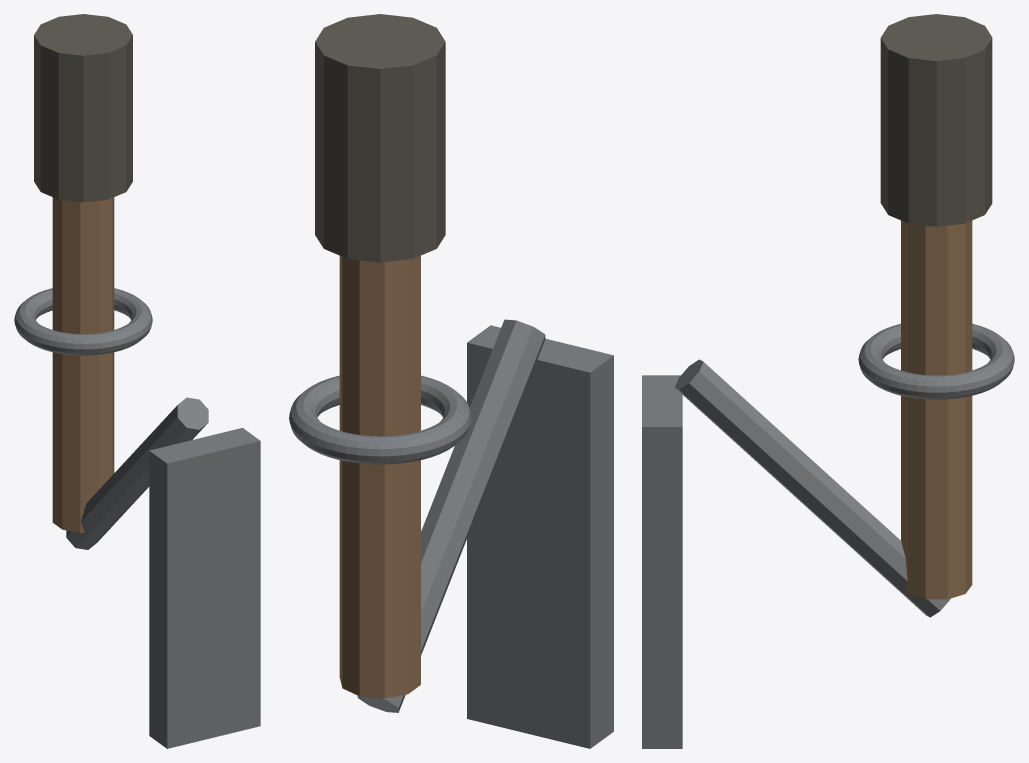
The model's file is torch_sconce.glb.
3 renders of one model, left to right at view 1: azimuth 30°, elevation 25°; view 2: azimuth 150°, elevation 25°; view 3: azimuth 270°, elevation 25°, orthographic. The views are drawn at different scales.
Parts seen in each view (by area): view 1: Sconce_Plate, Torch_Handle, Torch_Head, Cylinder, Torus; view 2: Sconce_Plate, Torch_Handle, Torch_Head, Cylinder, Torus; view 3: Torch_Handle, Torch_Head, Sconce_Plate, Cylinder, Torus.
Part boxes in pixels (x1,y1,x2,y2): Sconce_Plate: (149, 428, 260, 748); Torch_Handle: (52, 197, 114, 532); Torch_Head: (34, 14, 132, 202); Cylinder: (66, 397, 208, 549); Torus: (14, 288, 152, 355); Sconce_Plate: (467, 325, 613, 748); Torch_Handle: (339, 255, 420, 698); Torch_Head: (315, 14, 445, 262); Cylinder: (357, 319, 545, 712); Torus: (289, 375, 471, 464); Torch_Handle: (901, 220, 972, 599); Torch_Head: (880, 14, 992, 226); Sconce_Plate: (642, 375, 682, 748); Cylinder: (675, 359, 950, 617); Torus: (858, 323, 1014, 399).
Bounding box in the file's own units: 0.154 × 0.745 × 0.367.
